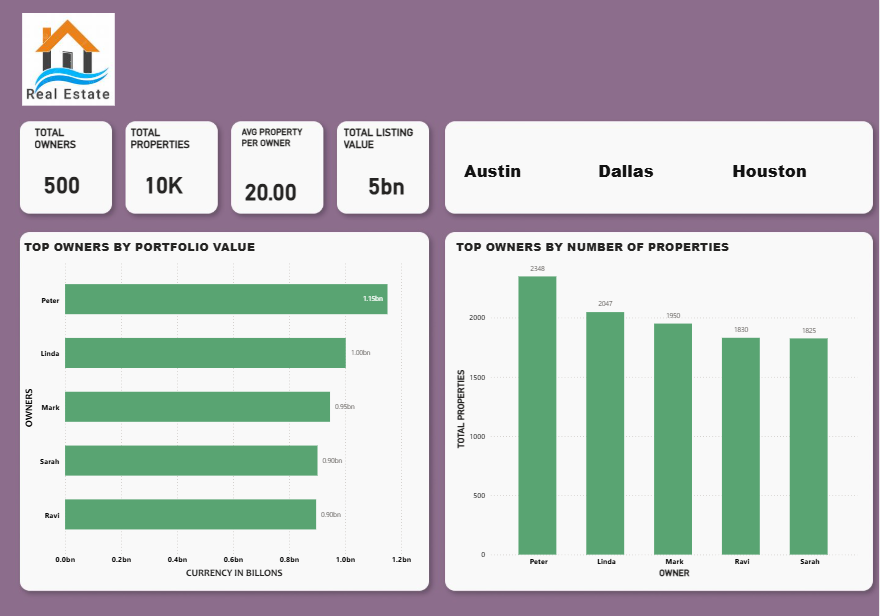

The dashboard page shown, as its layout file describes it:
{"tool":"powerbi","page":{"name":"OWNERS AND PORTFOLIO DISTRIBUTION [PART 1]","canvas":[1440,1024],"ordinal":12},"visuals":[{"type":"clusteredColumnChart","title":"TOP OWNERS BY NUMBER OF PROPERTIES","fields":{"Category":["Owners.OwnerName"],"Y":["Measure_Table.Total_Properties"]},"box":[747.5,395,662.5,557.5],"z":0},{"type":"card","title":"AVG . LISTED PRIZE","fields":{"Values":["Measure_Table.Total_Owners"]},"box":[37.5,242.5,145,127.5],"z":1000},{"type":"barChart","title":"TOP OWNERS BY PORTFOLIO VALUE","fields":{"Y":["Measure_Table.Total_Listing_Value"],"Category":["Owners.OwnerName"]},"box":[45,395,642.5,557.5],"z":2000},{"type":"card","title":"AVG . LISTED PRIZE","fields":{"Values":["Measure_Table.Total_Properties"]},"box":[200,242.5,150,127.5],"z":3000},{"type":"card","title":"AVG . LISTED PRIZE","fields":{"Values":["Measure_Table.Avg_Properties_Per_Owner"]},"box":[377.5,255,142.5,122.5],"z":4000},{"type":"card","title":"AVG . LISTED PRIZE","fields":{"Values":["Measure_Table.Total_Listing_Value"]},"box":[562.5,245,147.5,127.5],"z":5000},{"type":"advancedSlicerVisual","fields":{"Values":["Properties.City"]},"box":[747.5,220,662.5,130],"z":6000},{"type":"textbox","box":[60,207.5,122.5,55],"z":7000},{"type":"textbox","box":[217.5,207.5,150,55],"z":8000},{"type":"textbox","box":[397.5,207.5,122.5,77.5],"z":9000},{"type":"textbox","box":[562.5,207.5,157.5,55],"z":10000},{"type":"image","box":[25.1,29.6,193.7,150.4],"z":11000}]}

Visuals, with their boxes in screenshot pixels (x1, y1, x2, y2), scaled from the page's 1440x1024 canvas onto the 880x616 screenshot:
"TOP OWNERS BY NUMBER OF PROPERTIES" clusteredColumnChart: bbox=(457, 238, 862, 573)
"AVG . LISTED PRIZE" card: bbox=(23, 146, 112, 223)
"TOP OWNERS BY PORTFOLIO VALUE" barChart: bbox=(28, 238, 420, 573)
"AVG . LISTED PRIZE" card: bbox=(122, 146, 214, 223)
"AVG . LISTED PRIZE" card: bbox=(231, 153, 318, 227)
"AVG . LISTED PRIZE" card: bbox=(344, 147, 434, 224)
advancedSlicerVisual - Properties.City: bbox=(457, 132, 862, 211)
textbox: bbox=(37, 125, 112, 158)
textbox: bbox=(133, 125, 225, 158)
textbox: bbox=(243, 125, 318, 171)
textbox: bbox=(344, 125, 440, 158)
image: bbox=(15, 18, 134, 108)
